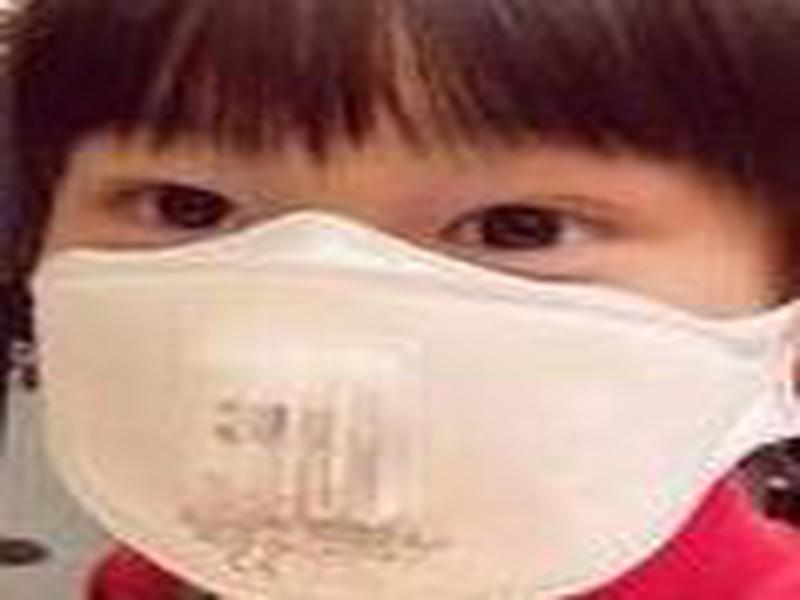with_mask: (4, 1, 797, 596)
